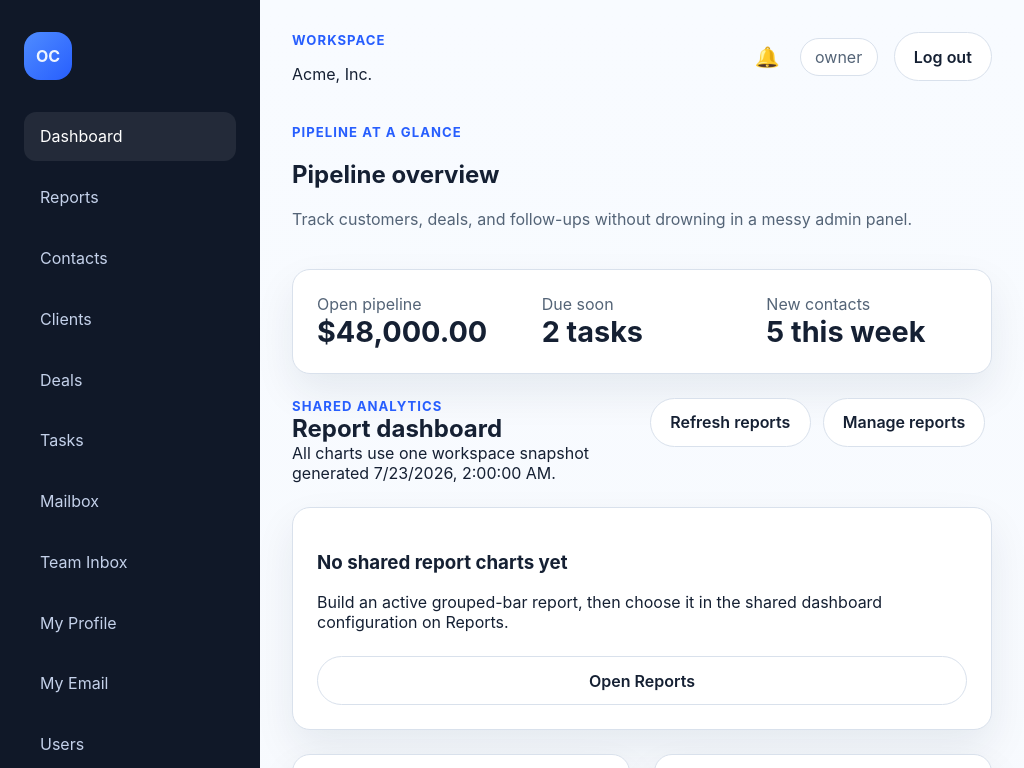
it: AppRouter › logs out from the app header and returns to login
expect the text "$48,000.00" is shown: met, box [317,314,487,349]
Click the button "Log out" at (943, 57), box [894,32,992,81]
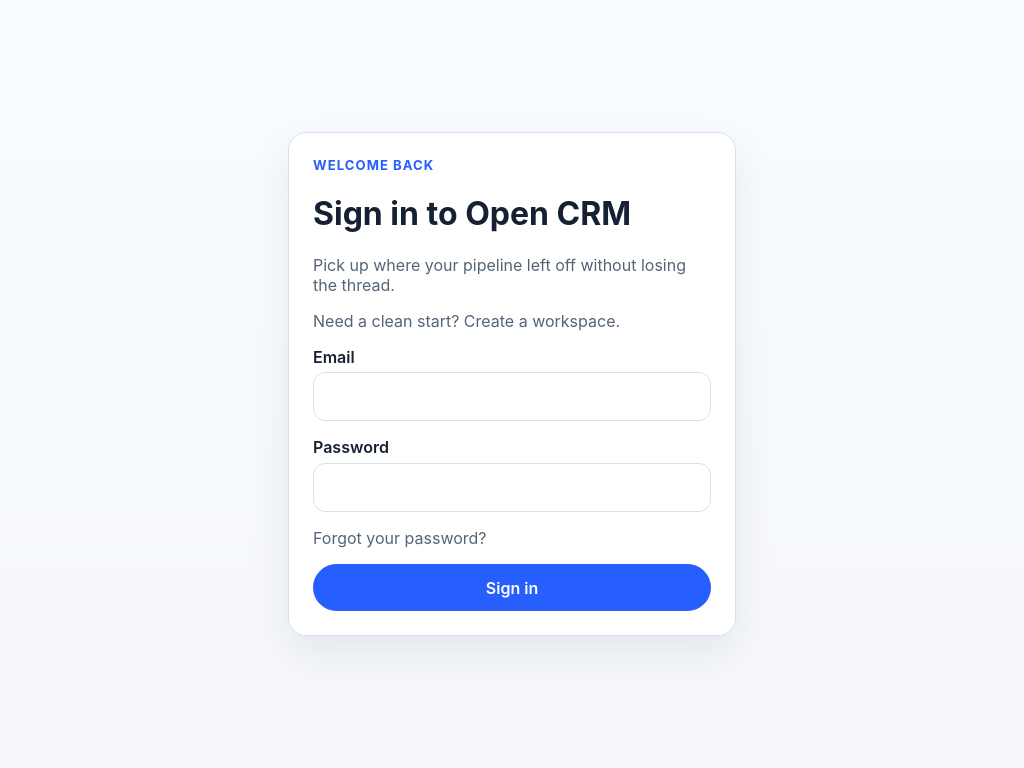
expect the heading "Sign in to Open CRM" is shown: met, box [313,194,631,233]
